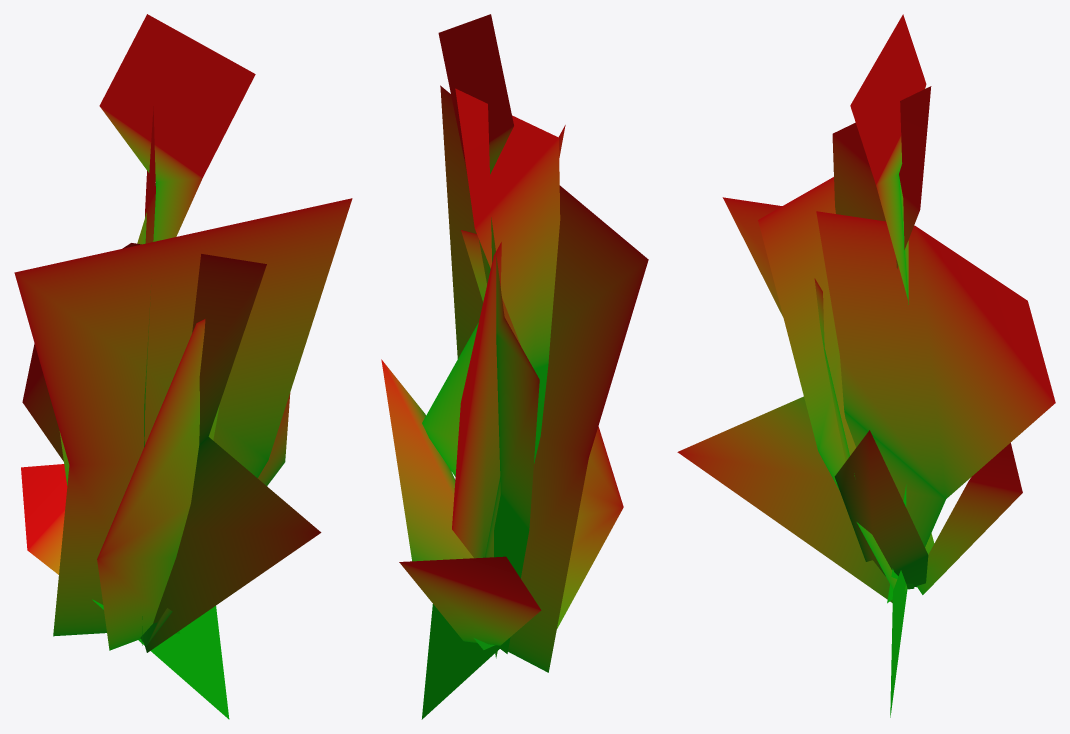
File: scvhd_Var2_LOD0.fbx
3 renders of one model, left to right at view 1: azimuth 30°, elevation 25°; view 2: azimuth 150°, elevation 25°; view 3: azimuth 270°, elevation 25°, orthographic. The views are drawn at different scales.
Visible parts, largest first — view 1: _4099_Var2_LOD0; view 2: _4099_Var2_LOD0; view 3: _4099_Var2_LOD0.
Boxes of the visible parts, box(x1,y1,x2,y2) form: _4099_Var2_LOD0: box(14, 14, 352, 719); _4099_Var2_LOD0: box(381, 14, 648, 719); _4099_Var2_LOD0: box(677, 14, 1055, 717).
Size of the model in its own units: 15.92 by 40.26 by 20.56.
